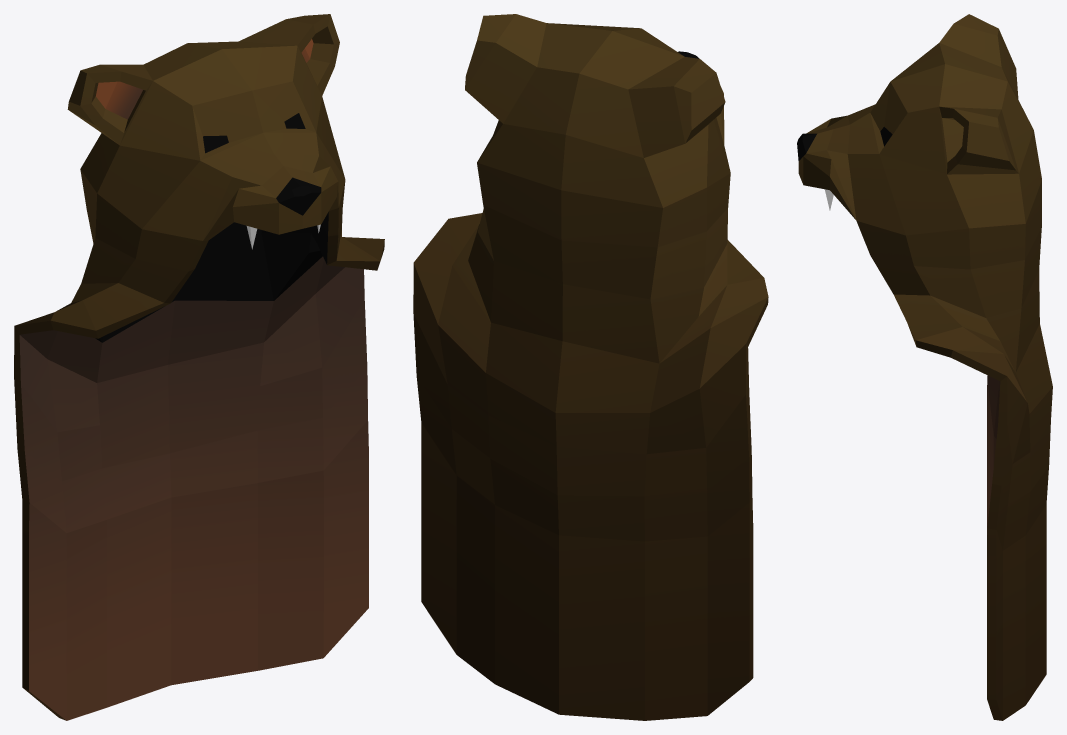
File: BearSkin.FBX
The picture shows the model from 3 angles, left to right: view 1: azimuth 30°, elevation 25°; view 2: azimuth 150°, elevation 25°; view 3: azimuth 270°, elevation 25°; orthographic projection. The views are drawn at different scales.
Visible parts, largest first — view 1: bear_skin; view 2: bear_skin; view 3: bear_skin.
Part boxes in pixels (x1=…): bear_skin: x1=14, y1=14, x2=384, y2=720; bear_skin: x1=413, y1=14, x2=768, y2=720; bear_skin: x1=797, y1=14, x2=1052, y2=720.
Bounding box in the file's own units: 115 × 213 × 80.94.
Materials: 1 (1 with a texture image).
